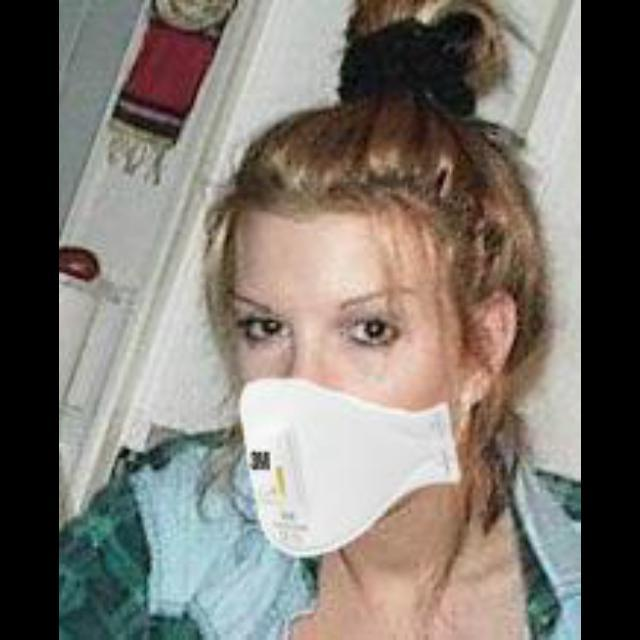suspicion: (146, 128, 576, 578)
